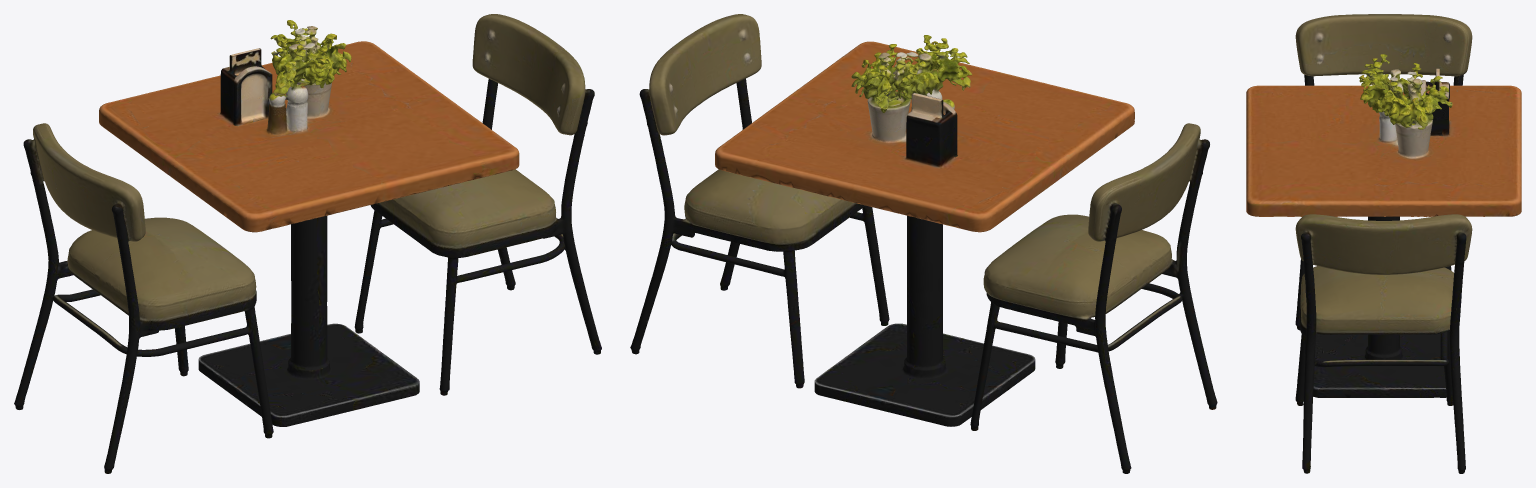
Rendered from table_2_chaises.glb.
3 renders of one model, left to right at view 1: azimuth 30°, elevation 25°; view 2: azimuth 150°, elevation 25°; view 3: azimuth 270°, elevation 25°, orthographic. The views are drawn at different scales.
Bounding box in the file's own units: 1.9 × 1.24 × 1.02.
1 material, 1 textured.
